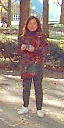person: (14, 13, 46, 118)
